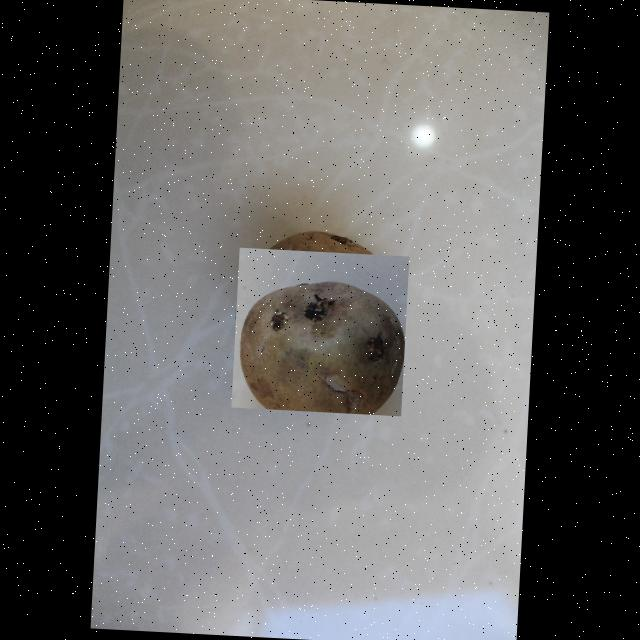Diseased-fungal potato: (232, 247, 409, 416)
